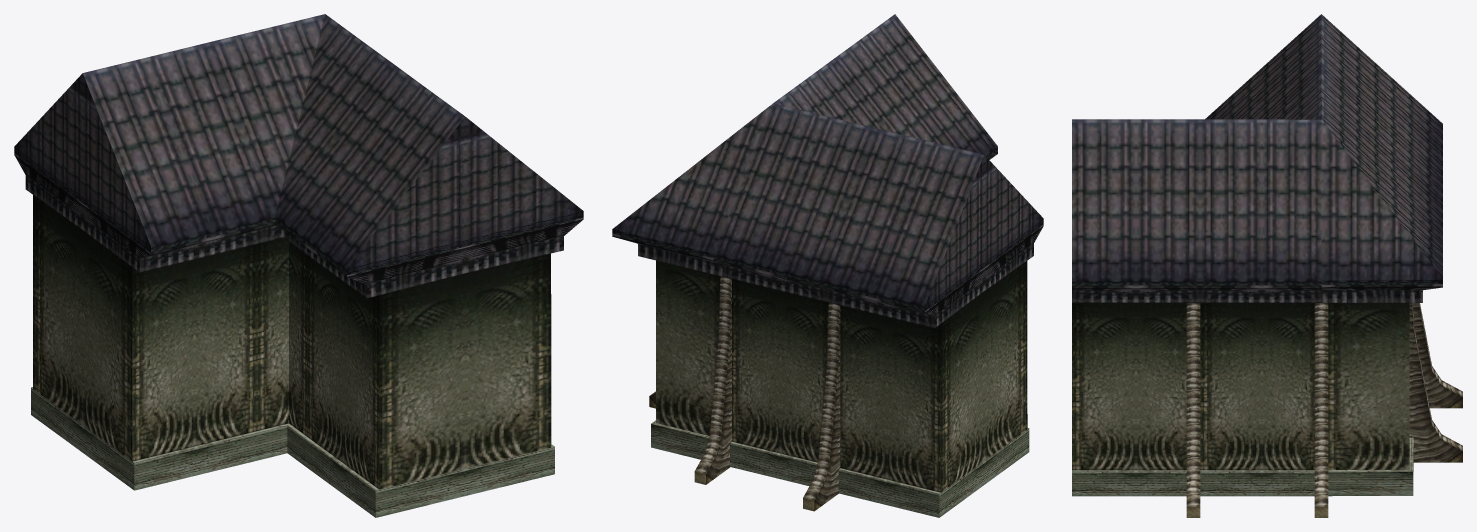
Rendered from ob-11-01-skeletonwall02.glb.
The picture shows the model from 3 angles, left to right: view 1: azimuth 30°, elevation 25°; view 2: azimuth 150°, elevation 25°; view 3: azimuth 270°, elevation 25°; orthographic projection. The views are drawn at different scales.
Parts seen in each view (by area): view 1: ob-11-01-skeletontower01; view 2: ob-11-01-skeletontower01, ob-11-01-skeletontower02; view 3: ob-11-01-skeletontower01, ob-11-01-skeletontower02.
Boxes of the visible parts, <box> form: ob-11-01-skeletontower01: <box>14,14,583,517</box>; ob-11-01-skeletontower01: <box>612,14,1043,517</box>; ob-11-01-skeletontower02: <box>649,276,840,511</box>; ob-11-01-skeletontower01: <box>1072,14,1442,496</box>; ob-11-01-skeletontower02: <box>1186,303,1462,517</box>.
Bounding box in the file's own units: 12.23 × 11.66 × 12.2.
2 materials, 2 textured.
